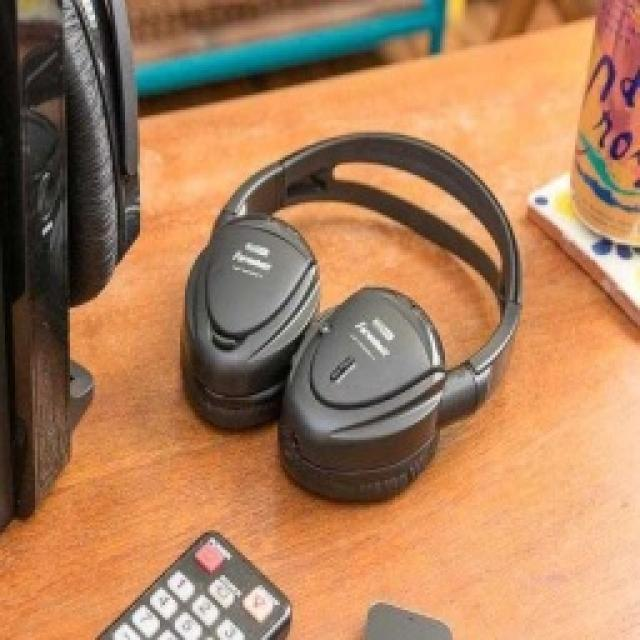headphones: (178, 128, 522, 502)
